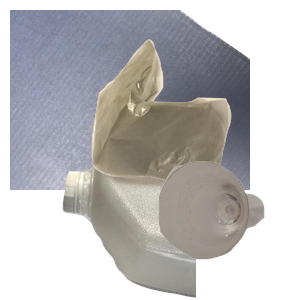cardboard: (10, 10, 250, 190)
glass: (156, 159, 300, 300)
plastic: (60, 120, 300, 300)
trash: (89, 37, 300, 213)
